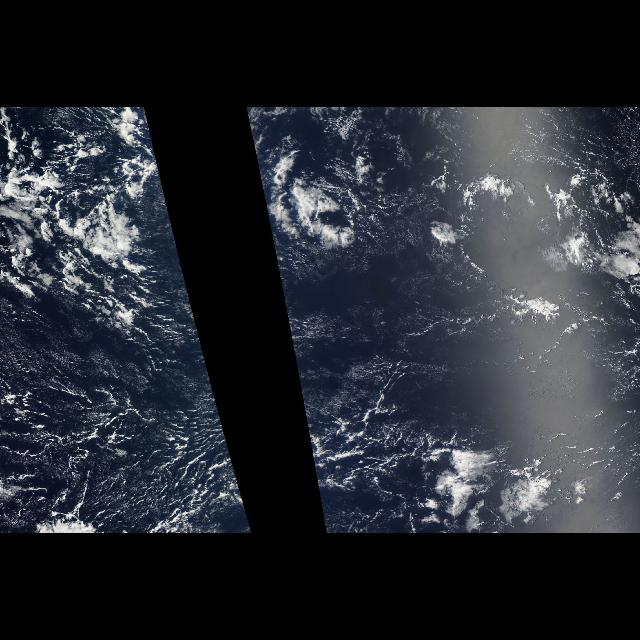Gravel: (2, 109, 222, 528)
